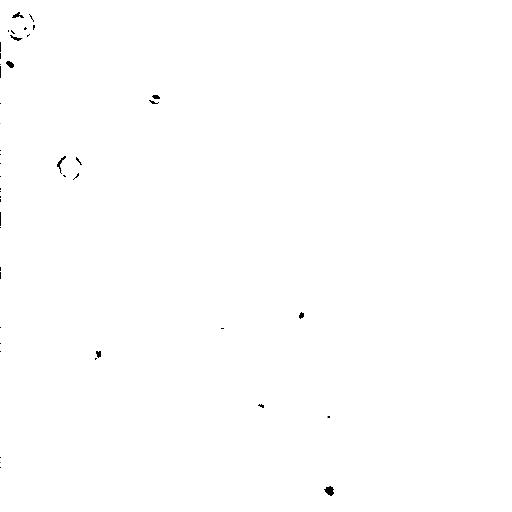micro-algae: (384, 171, 464, 250), (178, 56, 250, 129), (1, 215, 55, 282), (79, 335, 134, 384), (46, 354, 87, 399), (282, 296, 322, 332), (311, 471, 345, 507), (4, 6, 34, 39), (0, 39, 27, 73), (58, 153, 80, 180), (249, 395, 272, 419)
